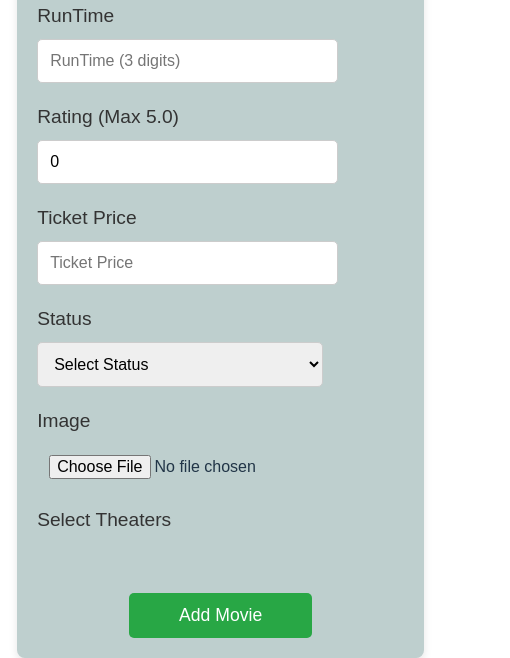
Test: AddMovieAdmin › validates form inputs
(page scrolled)
Click the button "Add Movie": (221, 616) x1=129 y1=593 x2=312 y2=638
(page scrolled)
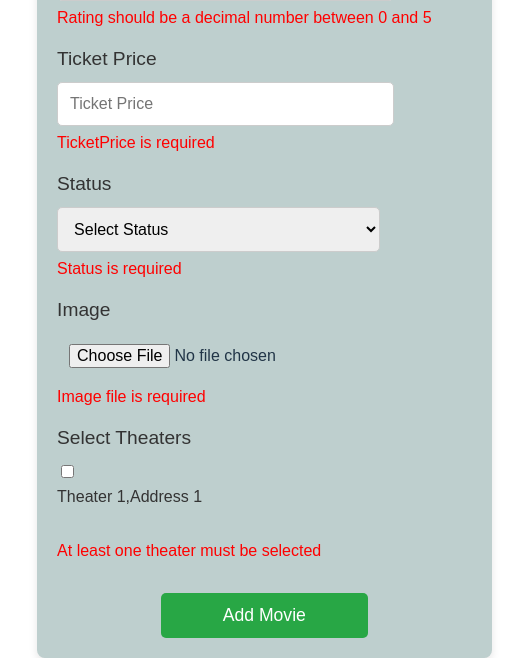
Result: the text "Rating should be a decimal number between 0 and 5" is shown at x1=57 y1=6 x2=472 y2=30
Result: the text "TicketPrice is required" is shown at x1=57 y1=134 x2=215 y2=151
Result: the text "Status is required" is shown at x1=57 y1=260 x2=182 y2=277
